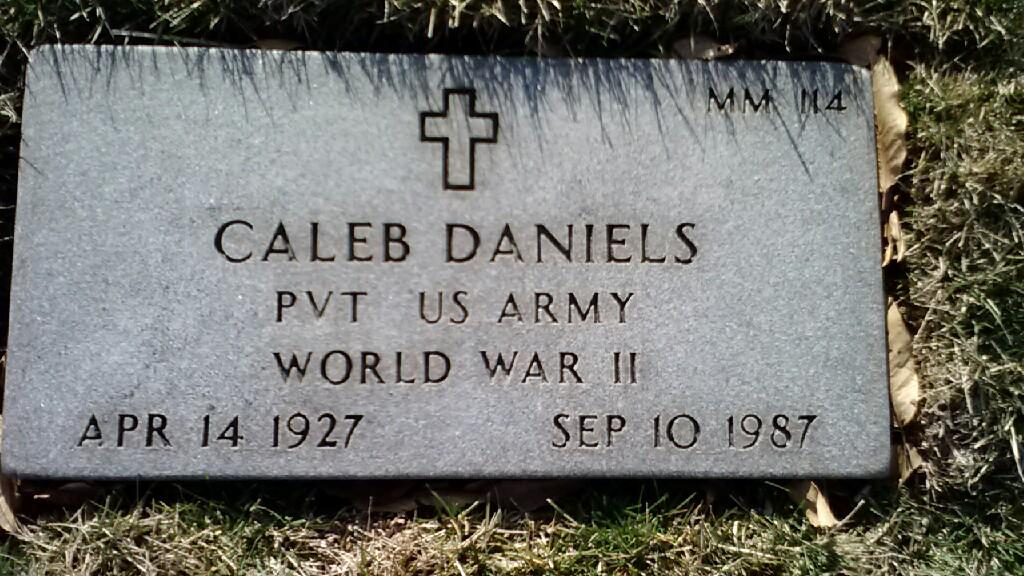flat: (1, 46, 894, 478)
